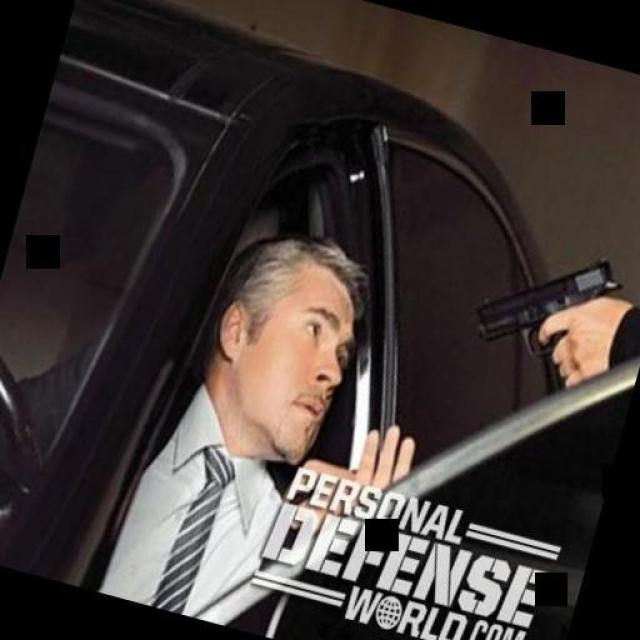gun: (464, 218, 638, 388)
